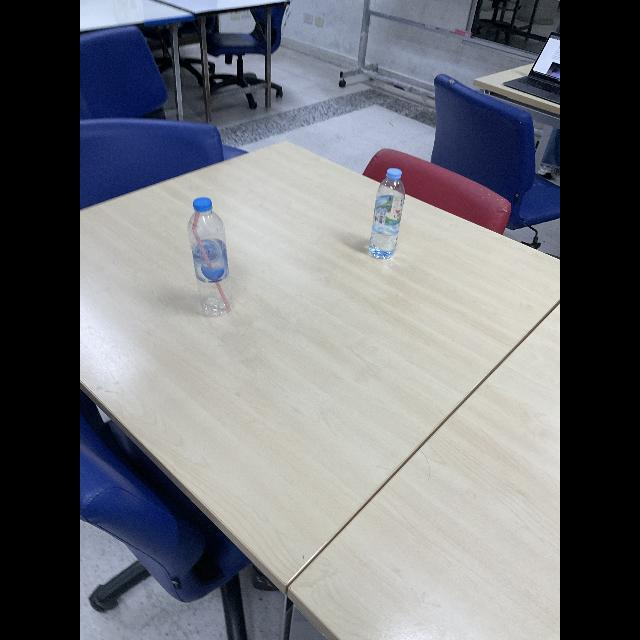plastic_bottle: (187, 195, 237, 318), (367, 166, 405, 264)
plastic_bottle_cap: (192, 198, 214, 212), (386, 168, 404, 182)
straw: (191, 212, 231, 312)
